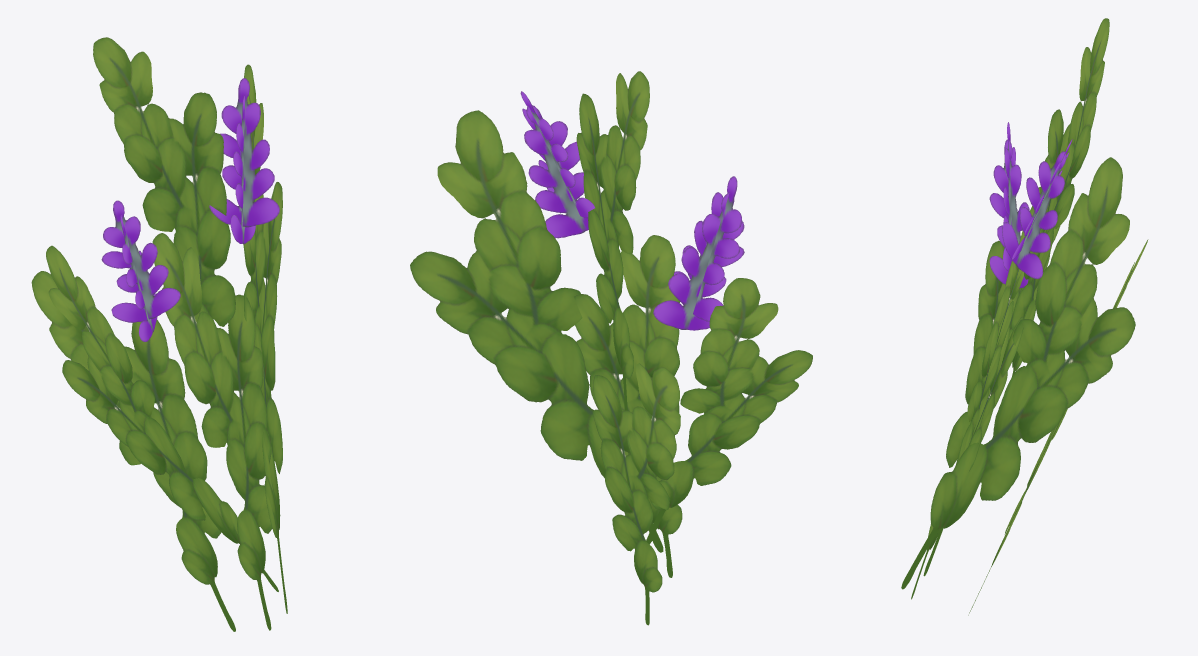
The model's file is Jungle_flower_06.fbx.
3 views of the same model, side by side, from view 1: azimuth 30°, elevation 25°; view 2: azimuth 150°, elevation 25°; view 3: azimuth 270°, elevation 25° (orthographic). The views are drawn at different scales.
Visible parts, largest first — view 1: Jungle_flower_06; view 2: Jungle_flower_06; view 3: Jungle_flower_06.
Boxes of the visible parts, box(x1,y1,x2,y2) form: Jungle_flower_06: box(31, 37, 287, 631); Jungle_flower_06: box(410, 71, 812, 625); Jungle_flower_06: box(901, 18, 1148, 615).
Bounding box in the file's own units: 78.97 × 125 × 59.
